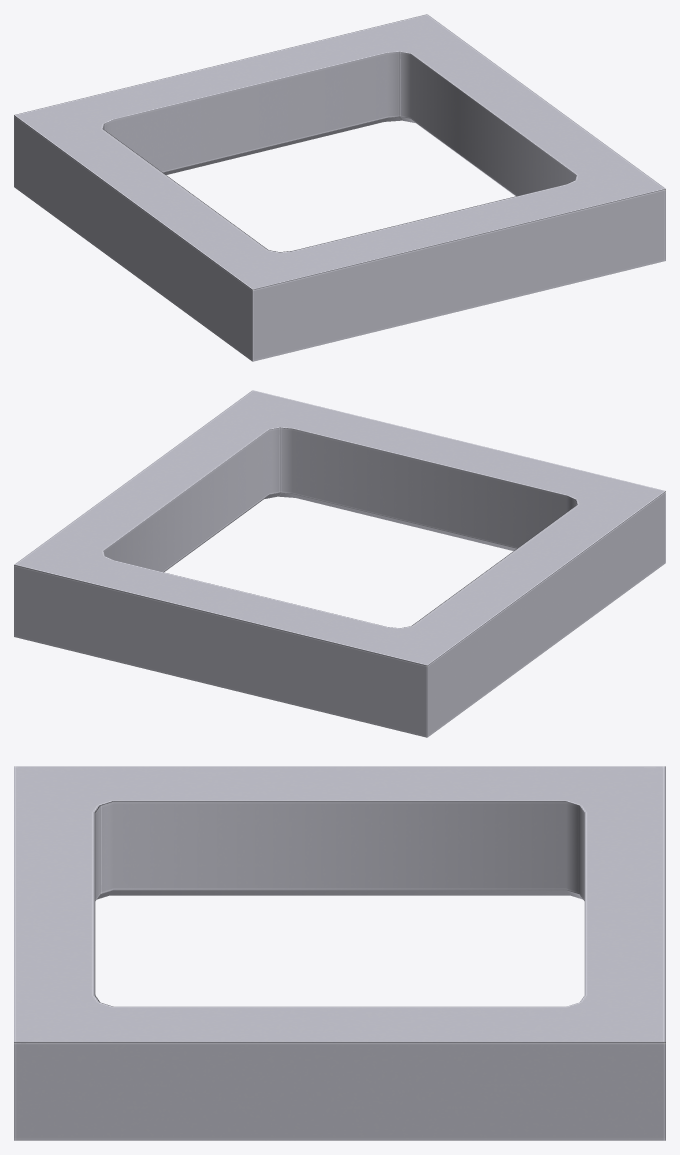
File: Roof_02.FBX
The picture shows the model from 3 angles, top to bottom: view 1: azimuth 30°, elevation 25°; view 2: azimuth 150°, elevation 25°; view 3: azimuth 270°, elevation 25°; orthographic projection. The views are drawn at different scales.
Visible parts, largest first — view 1: Roof_02; view 2: Roof_02; view 3: Roof_02.
Boxes of the visible parts, bbox=[...] form: Roof_02: bbox=[14, 14, 665, 361]; Roof_02: bbox=[14, 390, 665, 737]; Roof_02: bbox=[14, 766, 665, 1140].
Bounding box in the file's own units: 6 × 1 × 6.
Materials: 1 (1 with a texture image).
